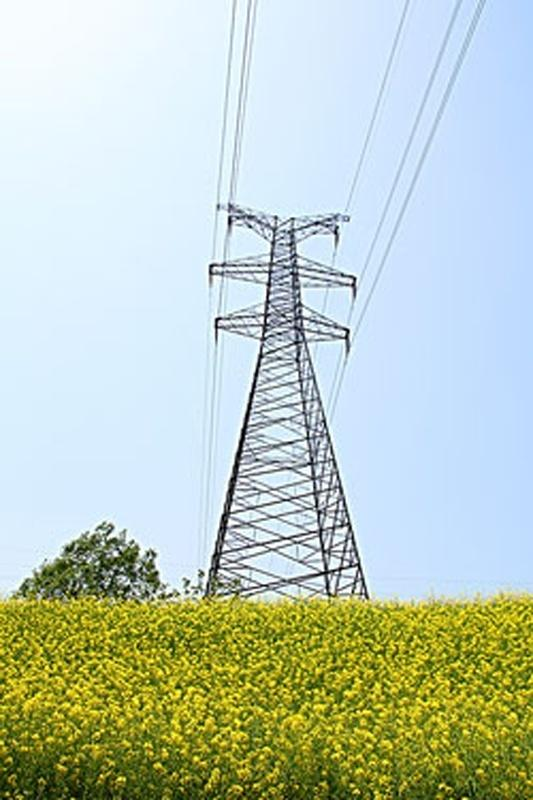power_tower: (177, 184, 383, 599)
